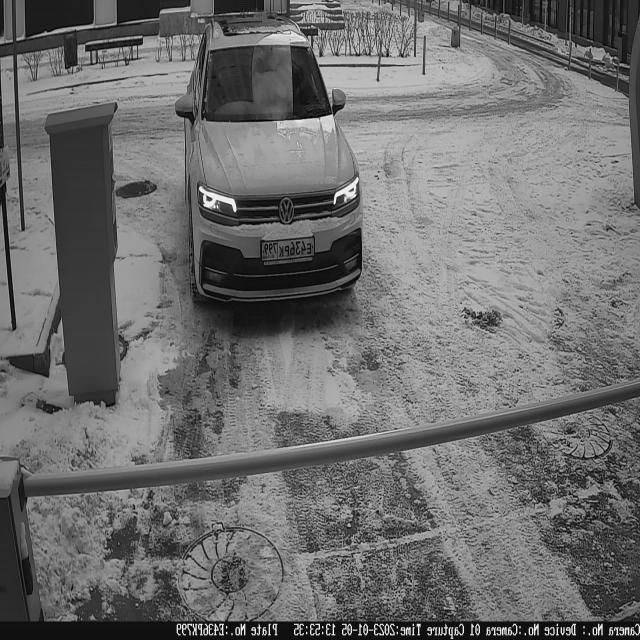car-plate-numbers: (258, 233, 318, 266)
